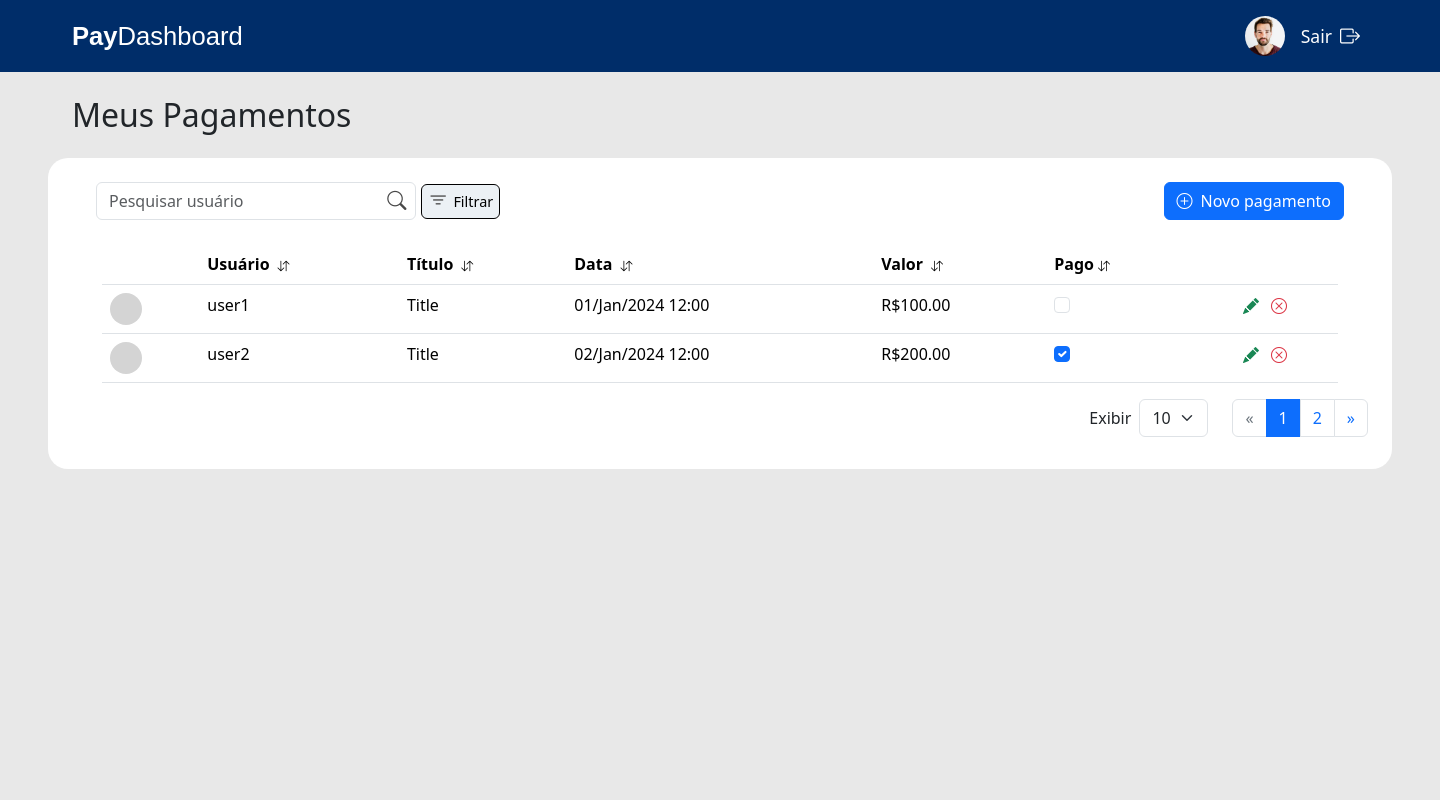
Test: Dashboard Component › delete payment › should show error message if delete fail
Click the button with class "dashboard__table-btn-delete" in the row of "user2".
click(1279, 355)  # box [1265,342,1293,368]
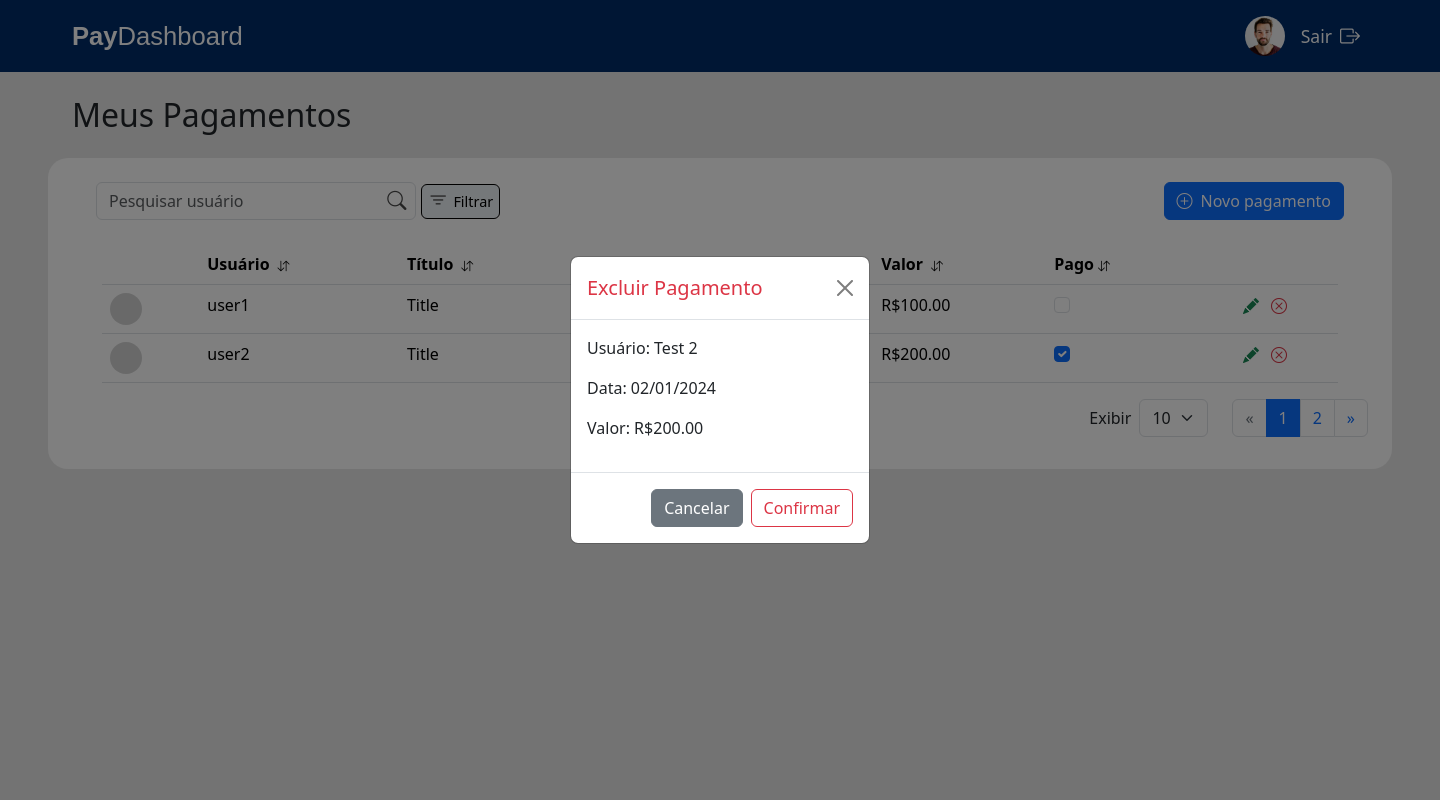
Click the button with id "btnDeletePayment".
click(803, 508)  # box [751,489,854,527]
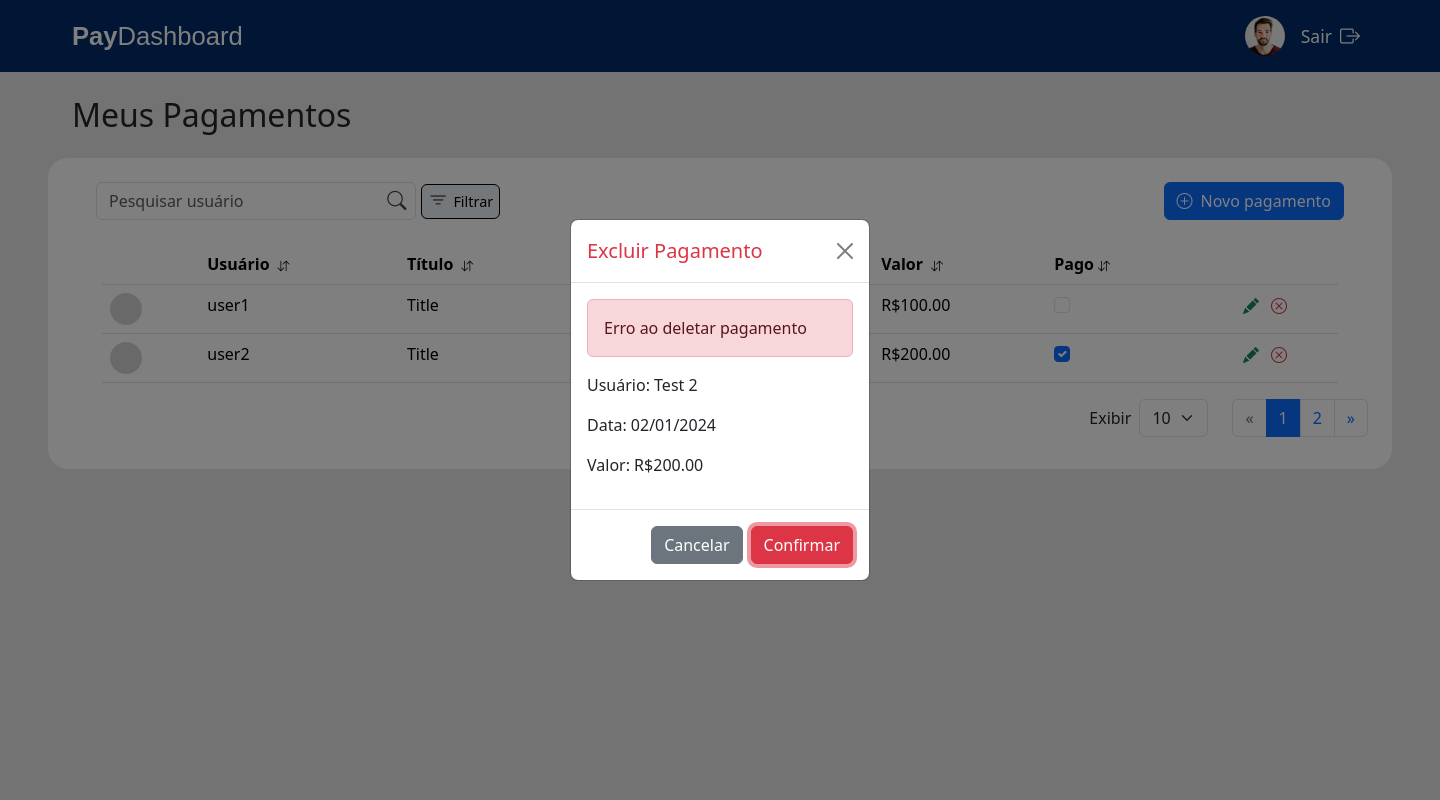
Result: the message with class "alert-danger" reads "Erro ao deletar pagamento" at [604,317,807,339]
Result: the message "Erro ao deletar pagamento" is shown at [587,299,853,357]
